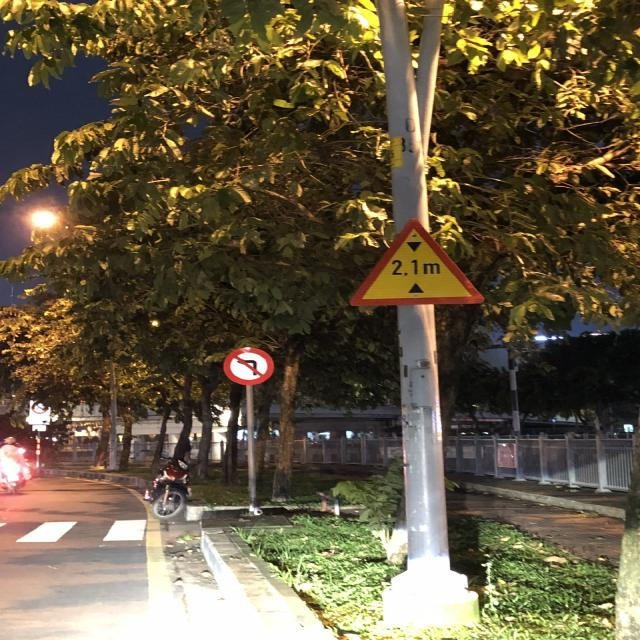Bien bao cam re trai: (217, 344, 280, 387)
Bien bao chieu cao tinh khong thuc te: (344, 214, 490, 314)
